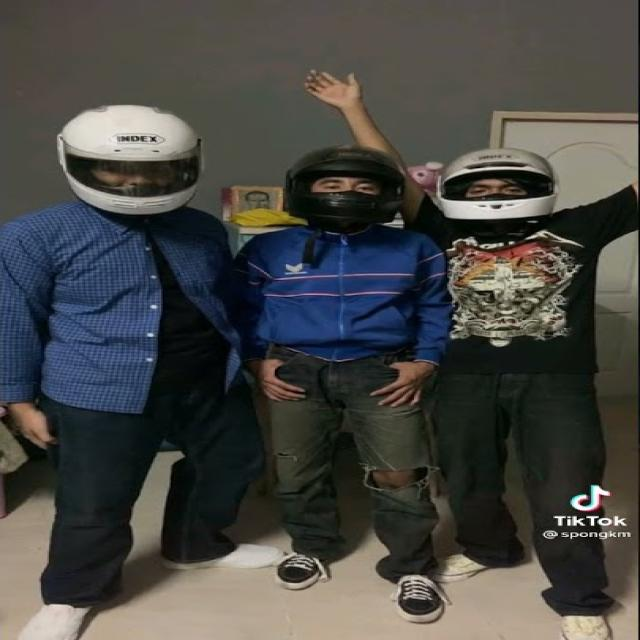helmet: (42, 98, 227, 230), (265, 136, 415, 244), (430, 141, 582, 228)
